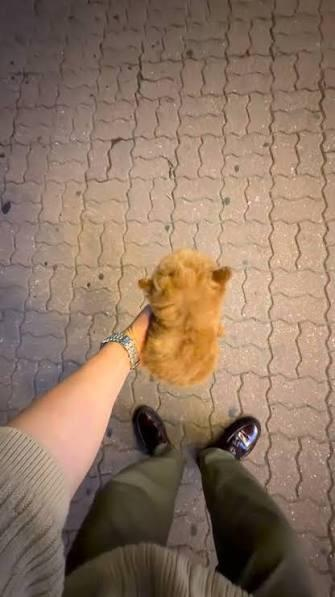non-dog: (0, 298, 321, 597)
puppy-dog: (136, 247, 233, 389)
